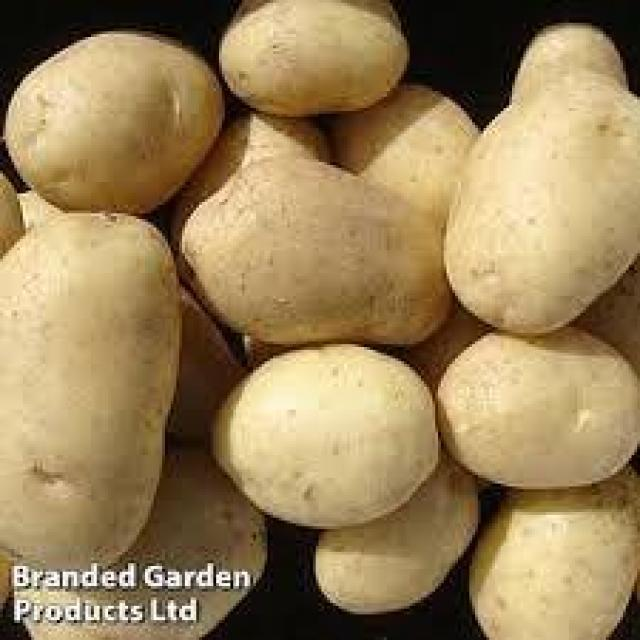Potato: (0, 195, 182, 570), (206, 344, 461, 611), (442, 23, 640, 340), (182, 183, 454, 349), (0, 28, 228, 219), (434, 330, 640, 485), (466, 466, 640, 640), (218, 0, 412, 119)
